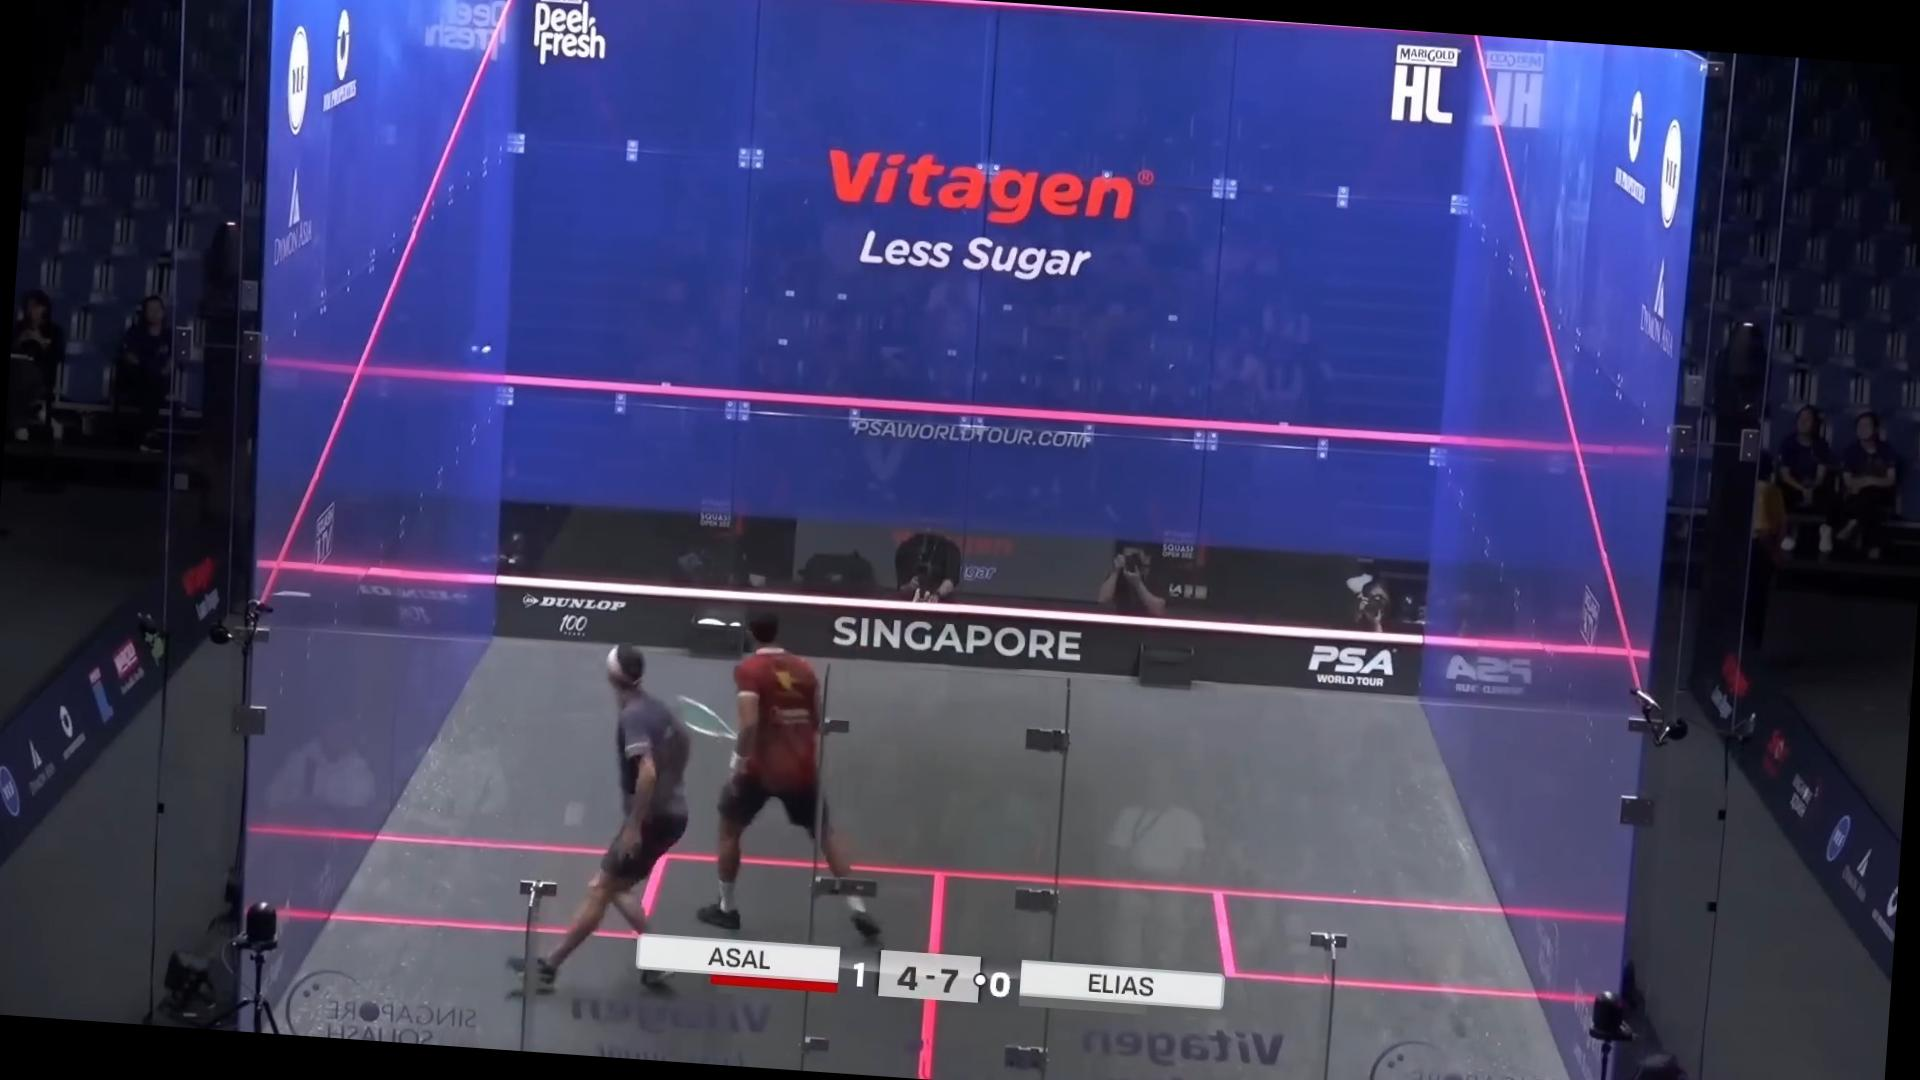Squash-Ball: (460, 328, 513, 372)
